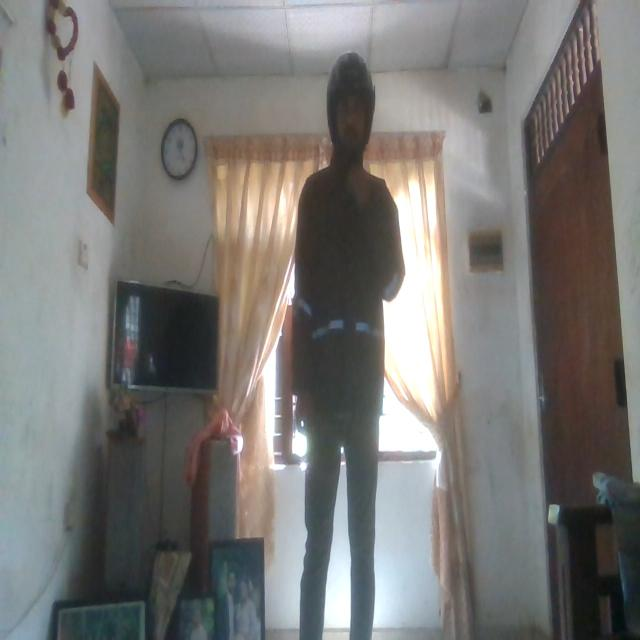Helmet_Wearer: (321, 51, 379, 168)
Jacket_Wearer: (280, 155, 402, 429)
Person: (290, 44, 396, 640)
